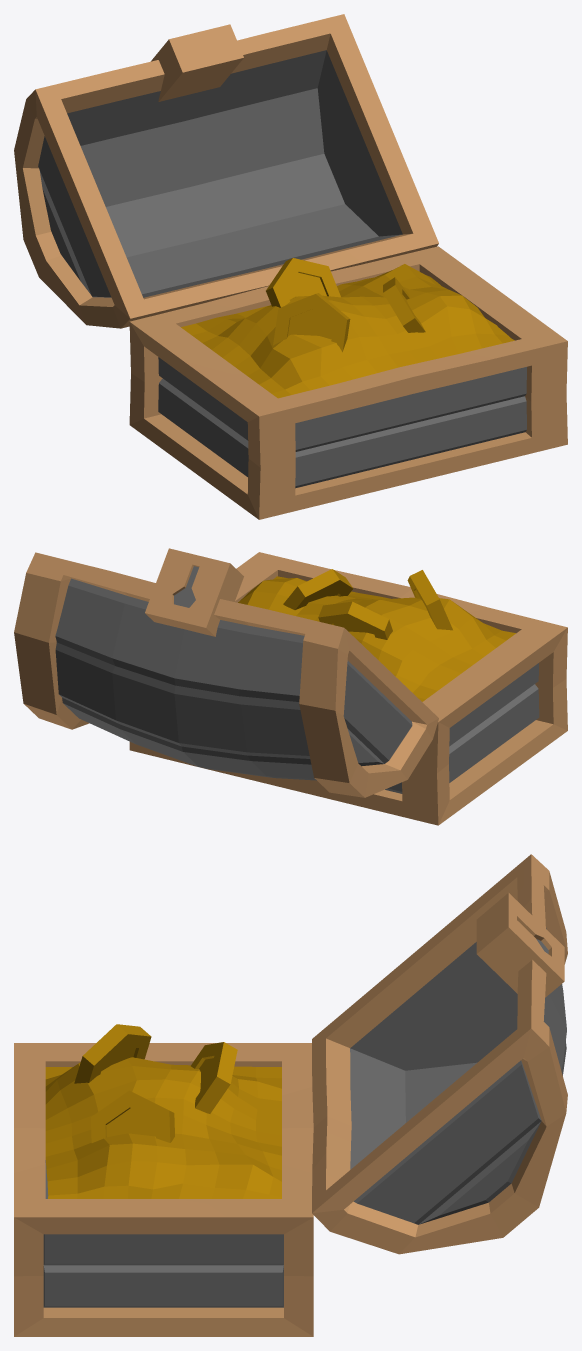
Rendered from Cofre.fbx.
3 renders of one model, top to bottom at view 1: azimuth 30°, elevation 25°; view 2: azimuth 150°, elevation 25°; view 3: azimuth 270°, elevation 25°, orthographic. The views are drawn at different scales.
Visible parts, largest first — view 1: chest's gold.001; view 2: chest's gold.001; view 3: chest's gold.001.
Part boxes in pixels (x1,y1,x2,y2): chest's gold.001: (14, 14, 567, 519); chest's gold.001: (14, 548, 567, 825); chest's gold.001: (14, 854, 567, 1336).
Bounding box in the file's own units: 294 × 253 × 374.
